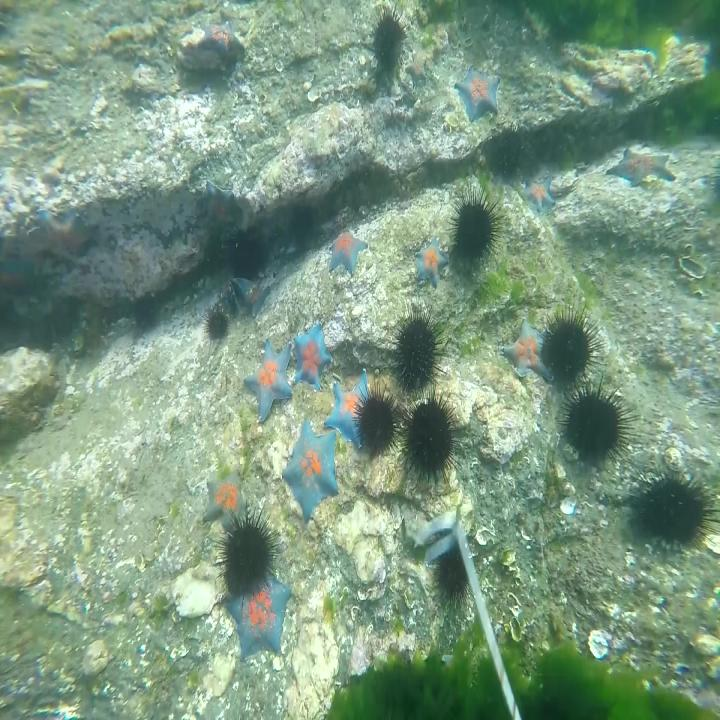echinus: (629, 466, 718, 556), (558, 385, 642, 474), (400, 388, 467, 485), (539, 303, 608, 394), (212, 508, 276, 605), (391, 304, 450, 396), (432, 528, 474, 610), (364, 2, 408, 73), (357, 388, 395, 470), (225, 224, 272, 280), (202, 298, 230, 344)
starfish: (223, 567, 293, 664), (277, 419, 341, 520), (328, 360, 378, 444), (244, 339, 292, 421), (30, 204, 99, 256), (291, 312, 333, 391), (503, 318, 551, 385), (608, 144, 673, 188), (205, 472, 248, 532), (453, 61, 497, 119), (192, 17, 242, 65), (328, 227, 367, 280), (515, 172, 555, 223), (227, 273, 270, 318), (407, 237, 446, 286), (0, 256, 41, 302)
